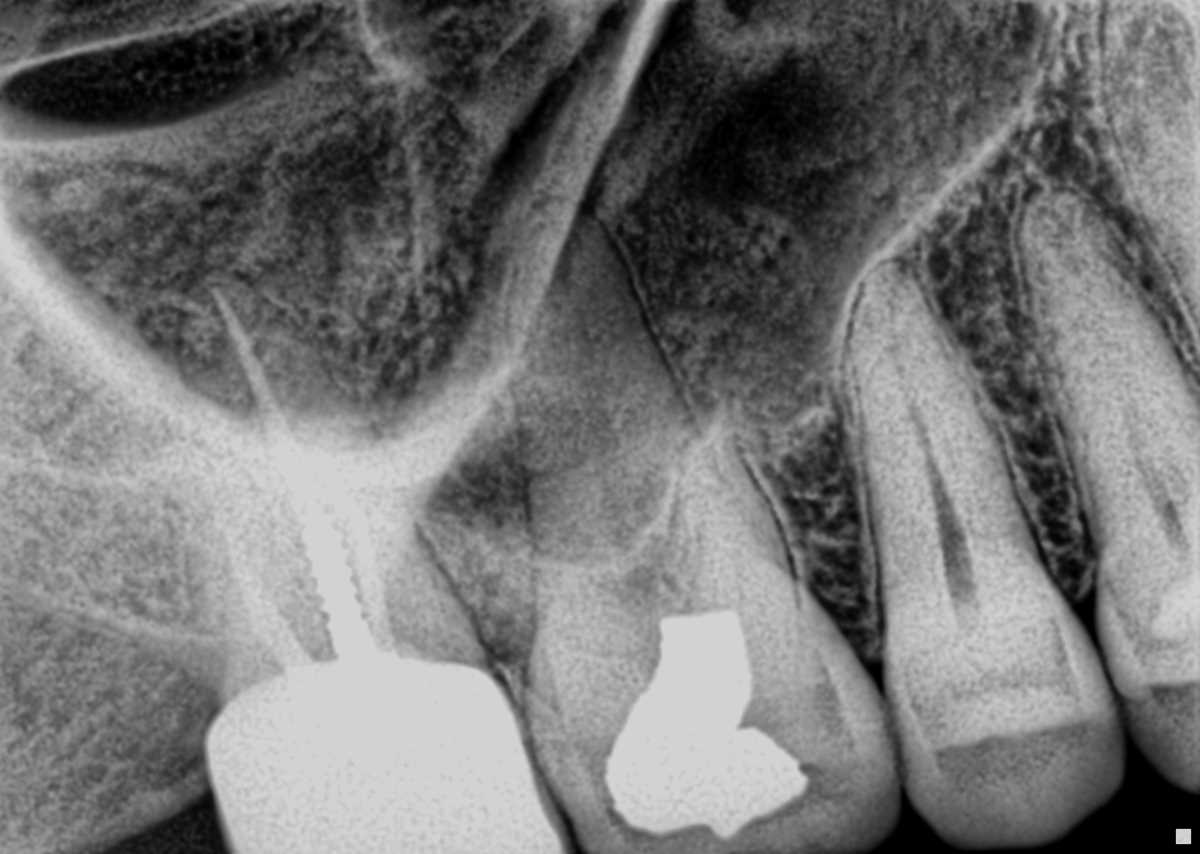Distal Root: (176, 432, 338, 694), (455, 536, 637, 699)
Main Canal: (888, 266, 977, 598), (1116, 394, 1193, 553)
Main Root: (848, 256, 1048, 617), (1022, 188, 1200, 570), (1094, 0, 1200, 353)
Mesial Root: (666, 424, 793, 605)
Palatal Root: (506, 195, 756, 646), (174, 271, 459, 648)
Root Canal Filling: (212, 486, 317, 671), (207, 285, 302, 470), (319, 465, 394, 652)
